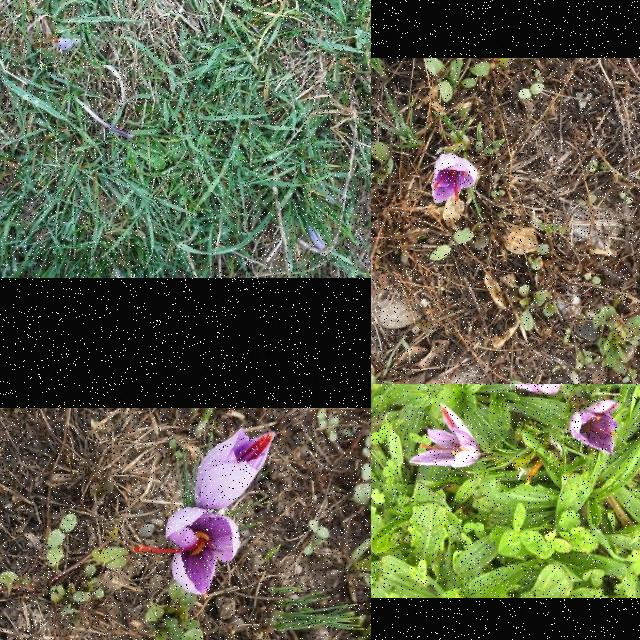flower: (136, 508, 240, 596), (194, 429, 276, 509), (410, 404, 482, 468), (431, 152, 479, 204), (570, 402, 618, 454)
